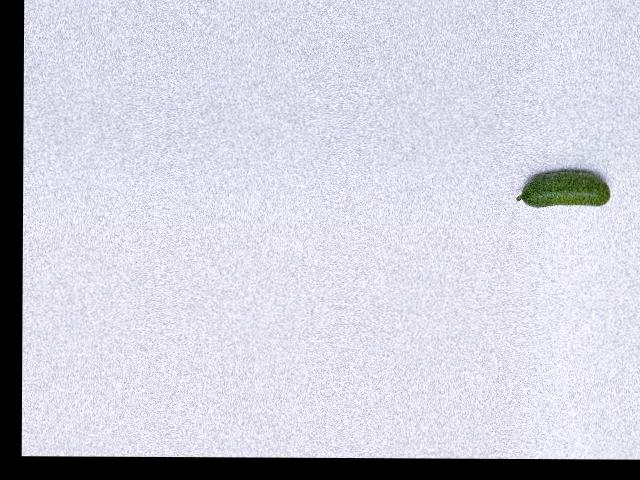cucumber: (516, 170, 611, 207)
